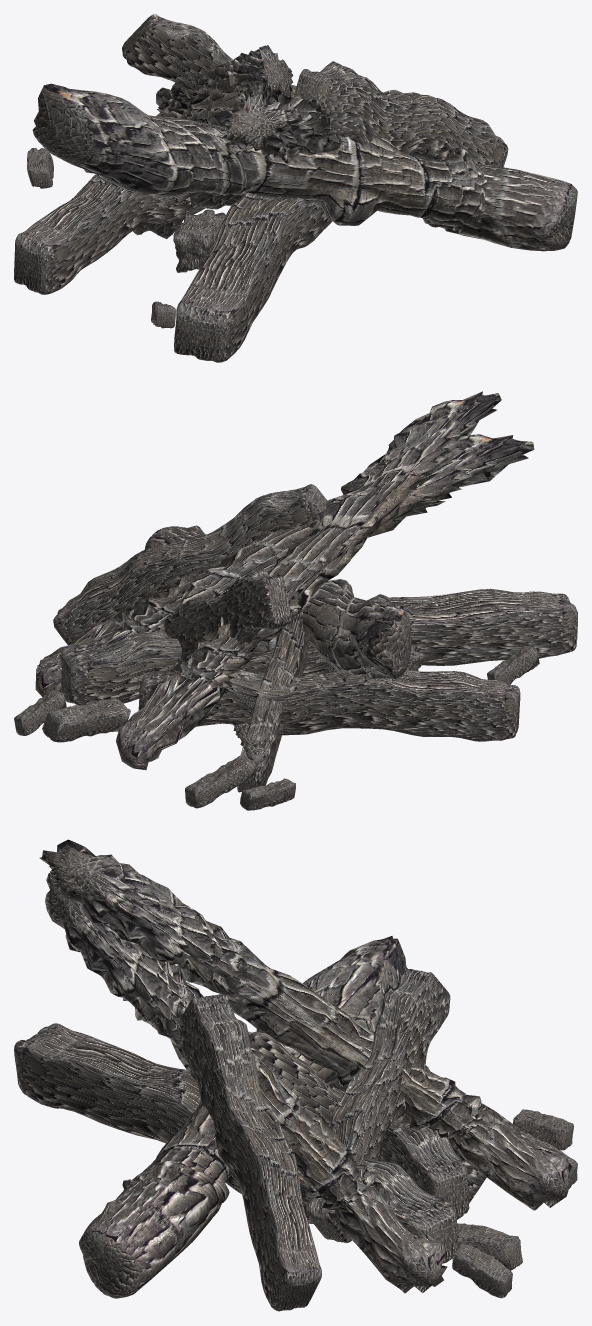
Rendered from woods.fbx.
3 views of the same model, one above another, from view 1: azimuth 30°, elevation 25°; view 2: azimuth 150°, elevation 25°; view 3: azimuth 270°, elevation 25° (orthographic). The views are drawn at different scales.
Parts seen in each view (by area): view 1: Cylinder001, Box001, Box005, Box003, Cylinder002, Cylinder004, Box012, Box002, Box004, Box011, Box010; view 2: Cylinder002, Box001, Box003, Cylinder004, Box005, Cylinder001, Box012, Box004, Box006, Box008, Box011, Box009 (+2 smaller); view 3: Cylinder002, Cylinder004, Cylinder001, Box005, Box001, Box012, Box003, Box004, Box009, Box006, Box011.
Boxes of the visible parts, x1=… form: Cylinder001: x1=32, y1=83, x2=577, y2=251; Box001: x1=174, y1=192, x2=331, y2=362; Box005: x1=294, y1=61, x2=508, y2=167; Box003: x1=14, y1=174, x2=204, y2=294; Cylinder002: x1=156, y1=45, x2=293, y2=125; Cylinder004: x1=213, y1=93, x2=341, y2=157; Box012: x1=122, y1=14, x2=296, y2=98; Box002: x1=173, y1=209, x2=225, y2=272; Box004: x1=133, y1=153, x2=291, y2=238; Box011: x1=27, y1=148, x2=53, y2=188; Box010: x1=151, y1=301, x2=176, y2=328; Cylinder002: x1=116, y1=391, x2=501, y2=770; Box001: x1=60, y1=588, x2=577, y2=705; Box003: x1=138, y1=670, x2=520, y2=741; Cylinder004: x1=35, y1=434, x2=534, y2=697; Box005: x1=53, y1=484, x2=328, y2=645; Cylinder001: x1=144, y1=525, x2=411, y2=678; Box012: x1=164, y1=568, x2=291, y2=659; Box004: x1=237, y1=611, x2=308, y2=792; Box006: x1=42, y1=697, x2=130, y2=742; Box008: x1=185, y1=756, x2=256, y2=808; Box011: x1=240, y1=778, x2=295, y2=810; Box009: x1=14, y1=690, x2=66, y2=735; Cylinder002: x1=39, y1=839, x2=571, y2=1210; Cylinder004: x1=45, y1=873, x2=447, y2=1293; Cylinder001: x1=79, y1=936, x2=407, y2=1298; Box005: x1=179, y1=994, x2=321, y2=1311; Box001: x1=14, y1=1023, x2=458, y2=1263; Box012: x1=305, y1=969, x2=450, y2=1243; Box003: x1=256, y1=1028, x2=469, y2=1219; Box004: x1=248, y1=1031, x2=486, y2=1203; Box009: x1=452, y1=1244, x2=512, y2=1298; Box006: x1=457, y1=1223, x2=522, y2=1270; Box011: x1=513, y1=1109, x2=574, y2=1150.
Size of the model in its own units: 99.68 by 61.35 by 93.97.
